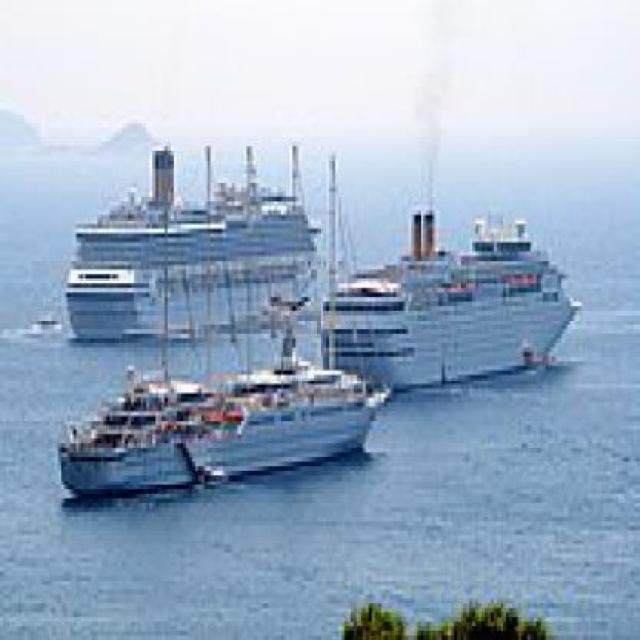cruise: (312, 202, 592, 399), (53, 147, 322, 344), (44, 376, 401, 504)
